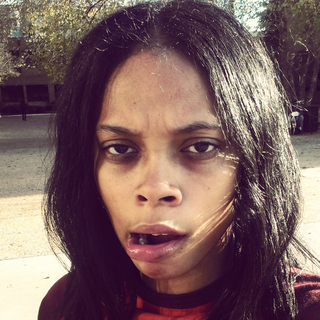eye: (174, 134, 229, 166), (96, 135, 146, 167)
